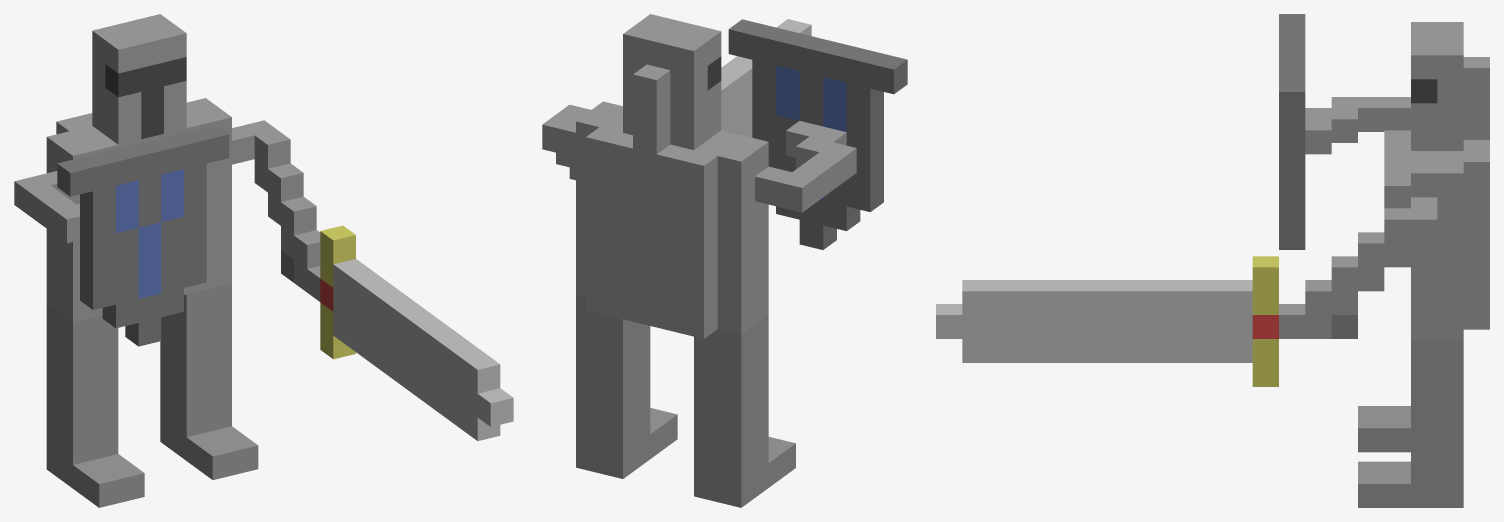
Rendered from knight.glb.
The picture shows the model from 3 angles, left to right: view 1: azimuth 30°, elevation 25°; view 2: azimuth 150°, elevation 25°; view 3: azimuth 270°, elevation 25°; orthographic projection. The views are drawn at different scales.
Visible parts, largest first — view 1: VoxTransform; view 2: VoxTransform; view 3: VoxTransform.
Boxes of the visible parts, <box> form: VoxTransform: <box>14,14,513,507</box>; VoxTransform: <box>542,14,907,507</box>; VoxTransform: <box>936,14,1489,507</box>.
Size of the model in its own units: 12 by 18 by 21.
